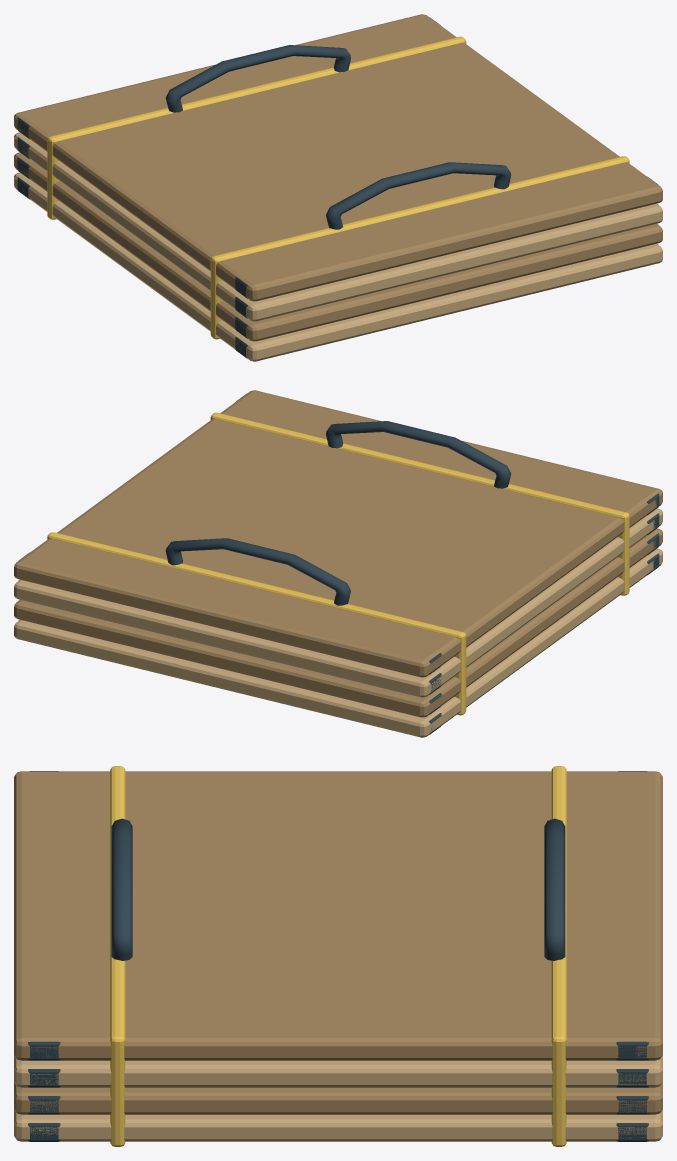
File: deck-folded.glb
3 views of the same model, one above another, from view 1: azimuth 30°, elevation 25°; view 2: azimuth 150°, elevation 25°; view 3: azimuth 270°, elevation 25° (orthographic). The views are drawn at different scales.
Parts seen in each view (by area): view 1: tyaga-deck-folded-surface; view 2: tyaga-deck-folded-surface; view 3: tyaga-deck-folded-surface.
Part boxes in pixels (box(x1,y1,x2,y2)): tyaga-deck-folded-surface: box(14, 14, 662, 361); tyaga-deck-folded-surface: box(14, 390, 662, 737); tyaga-deck-folded-surface: box(14, 766, 662, 1146).
Bounding box in the file's own units: 1.5 × 0.4 × 1.5.
